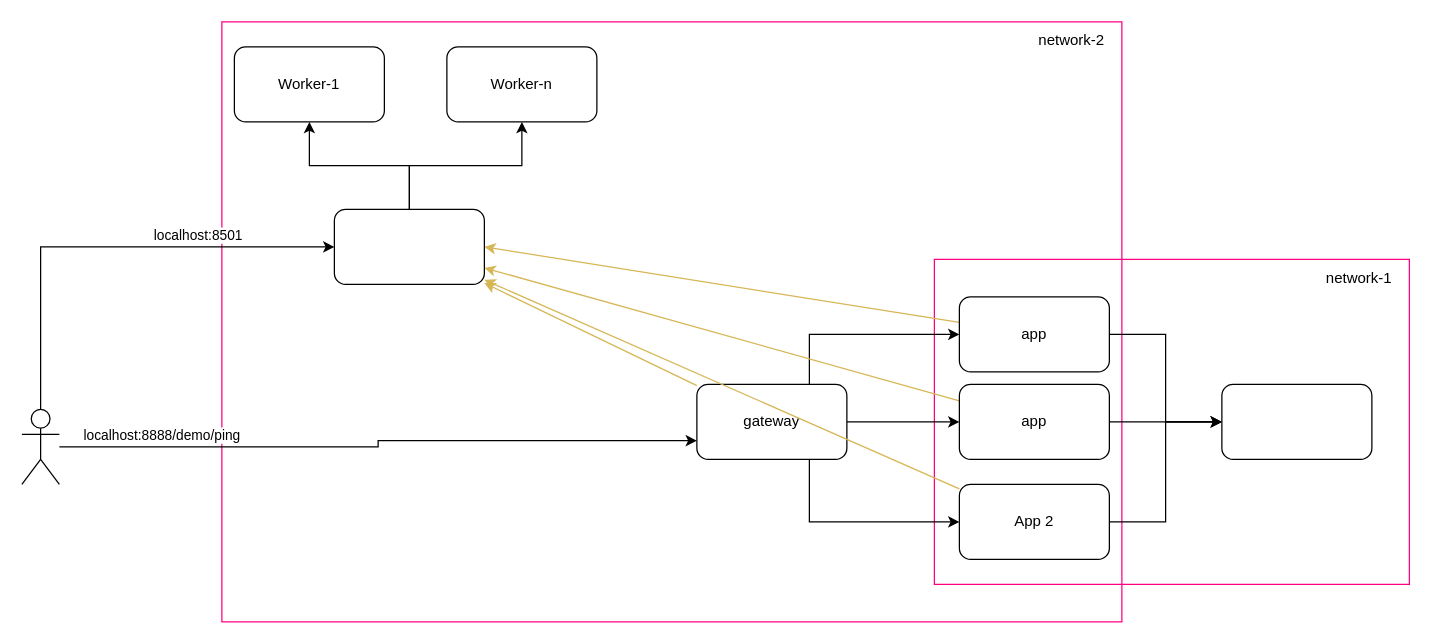
Image size: 1431x644. Some labels were removed from this diagram. The centre of each missing label's shape, as x and y in pixels:
Actor: the point at 40,446
Consul-UI: the point at 408,246
DB: the point at 1296,421
